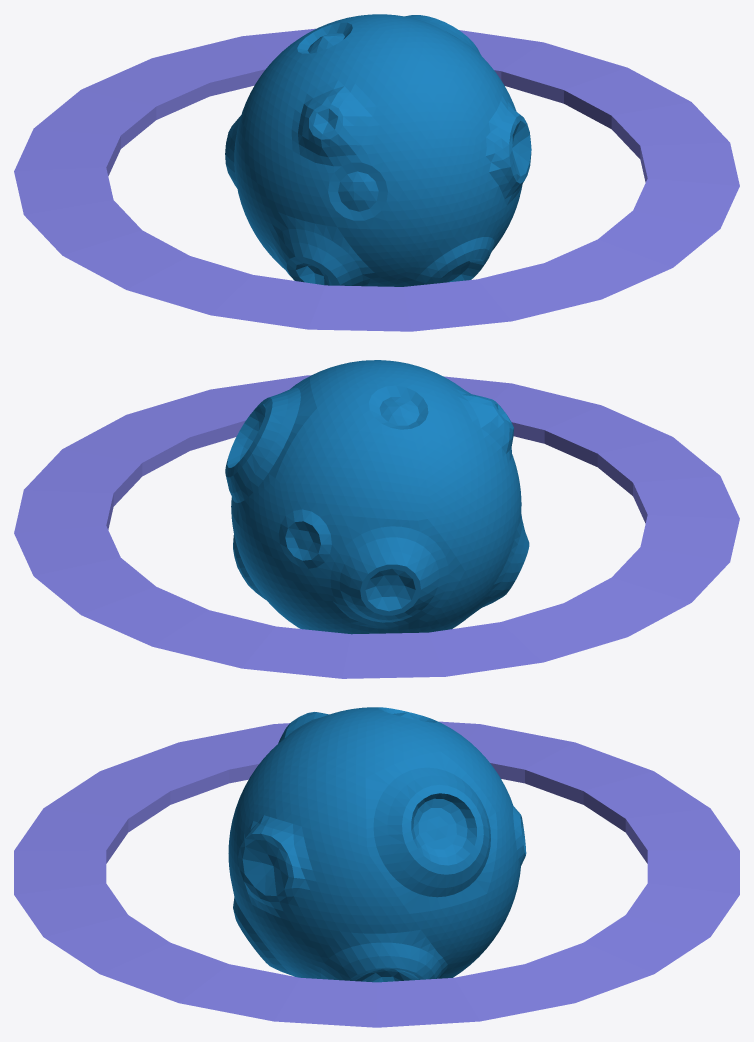
Rendered from plannet.fbx.
3 renders of one model, top to bottom at view 1: azimuth 30°, elevation 25°; view 2: azimuth 150°, elevation 25°; view 3: azimuth 270°, elevation 25°, orthographic.
Parts seen in each view (by area): view 1: belt.1, planet.1; view 2: belt.1, planet.1; view 3: belt.1, planet.1.
Boxes of the visible parts, <box> form: belt.1: <box>14,28,739,331</box>; planet.1: <box>225,14,531,286</box>; belt.1: <box>14,375,739,678</box>; planet.1: <box>225,360,529,634</box>; belt.1: <box>14,721,739,1027</box>; planet.1: <box>228,707,526,982</box>.
Bounding box in the file's own units: 500 × 201 × 495.
